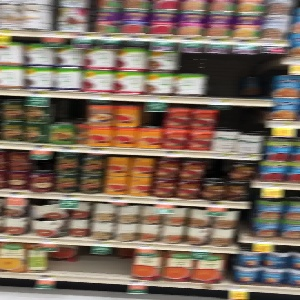void: (206, 48, 271, 100), (79, 248, 117, 280)
